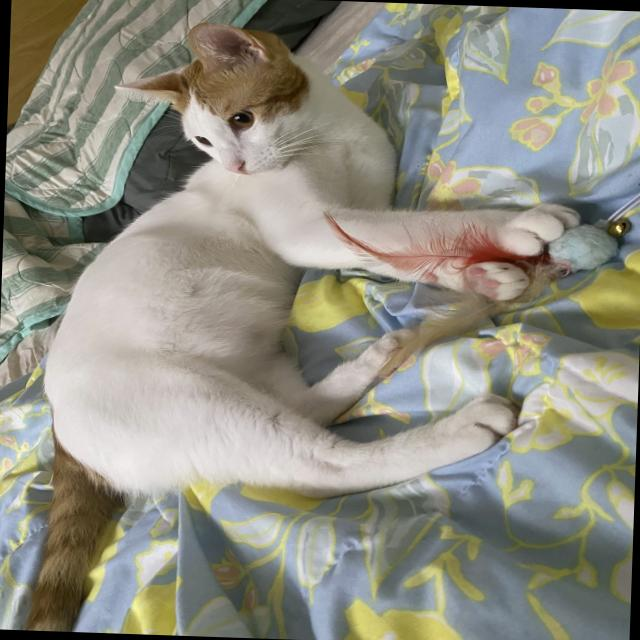cat1: (29, 15, 591, 640)
